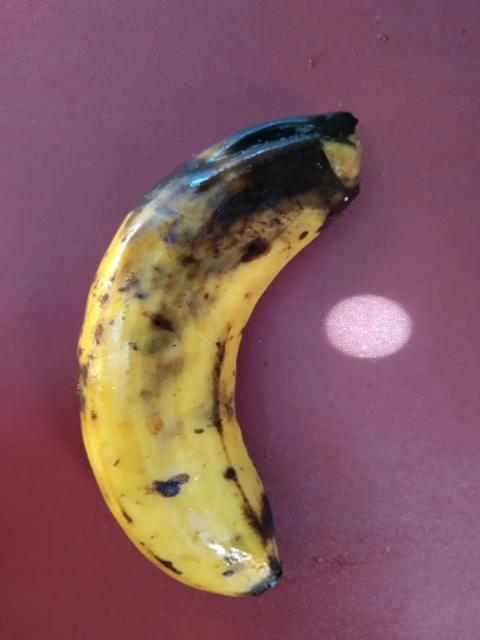rotten: (53, 90, 399, 619)
